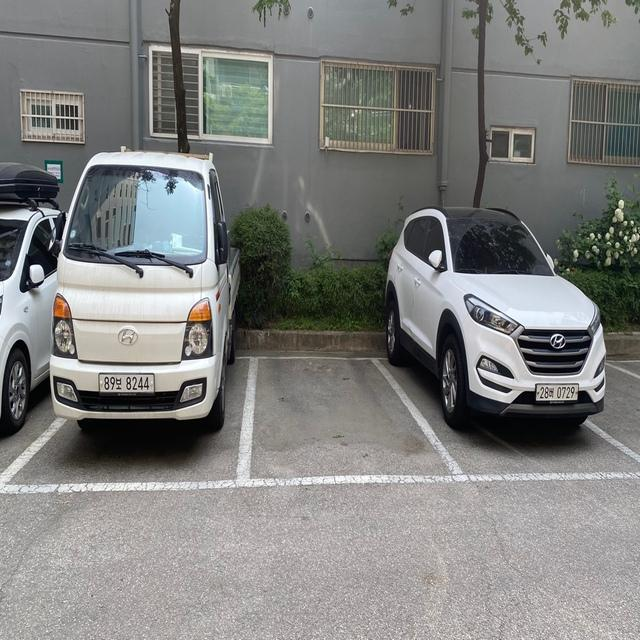empty: (238, 353, 475, 490)
occupied: (386, 205, 613, 439), (60, 150, 235, 429)
